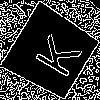K: (26, 27, 83, 80)
